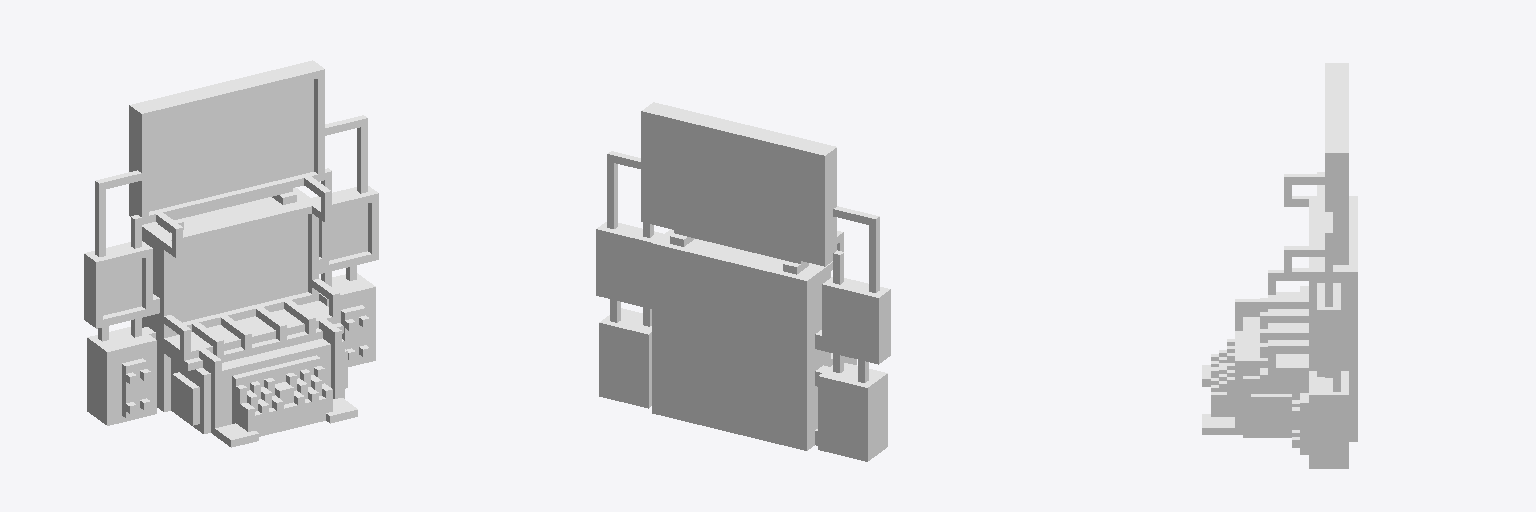
The model's file is mega_computer.obj.
The picture shows the model from 3 angles: view 1: azimuth 30°, elevation 25°; view 2: azimuth 150°, elevation 25°; view 3: azimuth 270°, elevation 25°; orthographic projection.
Parts seen in each view (by area): view 1: mega_computer; view 2: mega_computer; view 3: mega_computer.
Boxes of the visible parts, x1,y1,x2,y2 form: mega_computer: [84, 60, 378, 447]; mega_computer: [596, 102, 890, 461]; mega_computer: [1202, 63, 1357, 468].
Bounding box in the file's own units: 40 × 40 × 19.